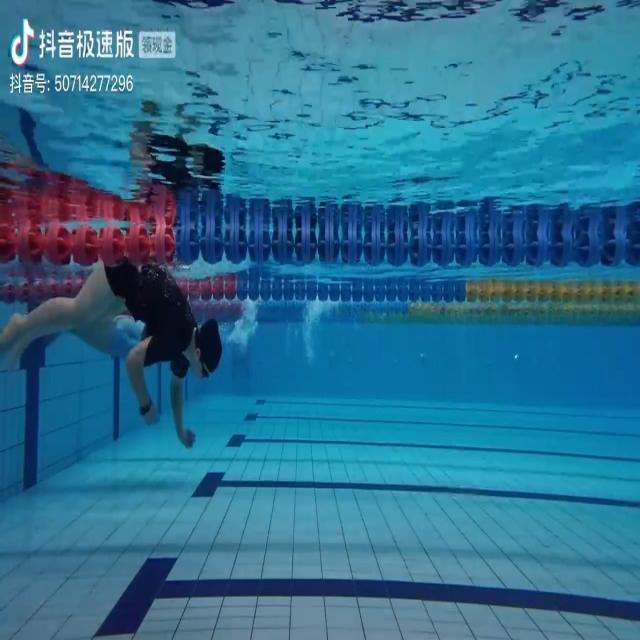Swimming: (0, 259, 222, 426)
